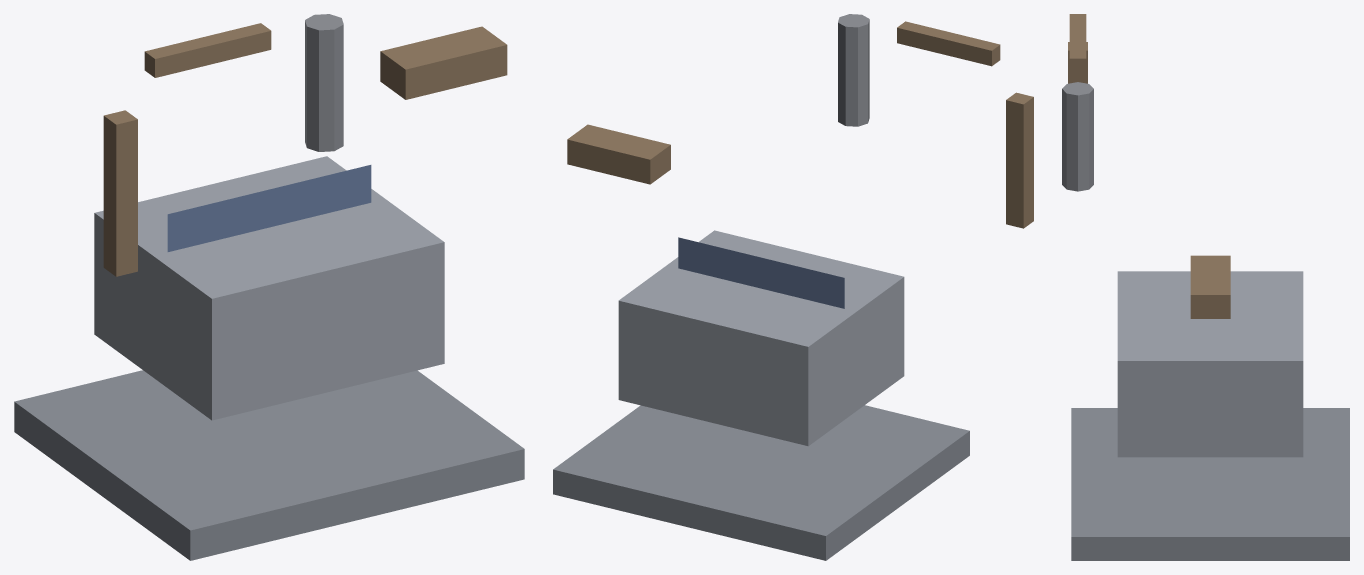
The model's file is vanguard_siege_workshop.glb.
3 renders of one model, left to right at view 1: azimuth 30°, elevation 25°; view 2: azimuth 150°, elevation 25°; view 3: azimuth 270°, elevation 25°, orthographic. The views are drawn at different scales.
Visible parts, largest first — view 1: vanguard_siege_workshop; view 2: vanguard_siege_workshop; view 3: vanguard_siege_workshop.
Boxes of the visible parts, x1,y1,x2,y2 form: vanguard_siege_workshop: (14, 14, 524, 560); vanguard_siege_workshop: (553, 14, 1033, 560); vanguard_siege_workshop: (1062, 14, 1349, 560).
Size of the model in its own units: 32.25 by 33.62 by 21.7.
